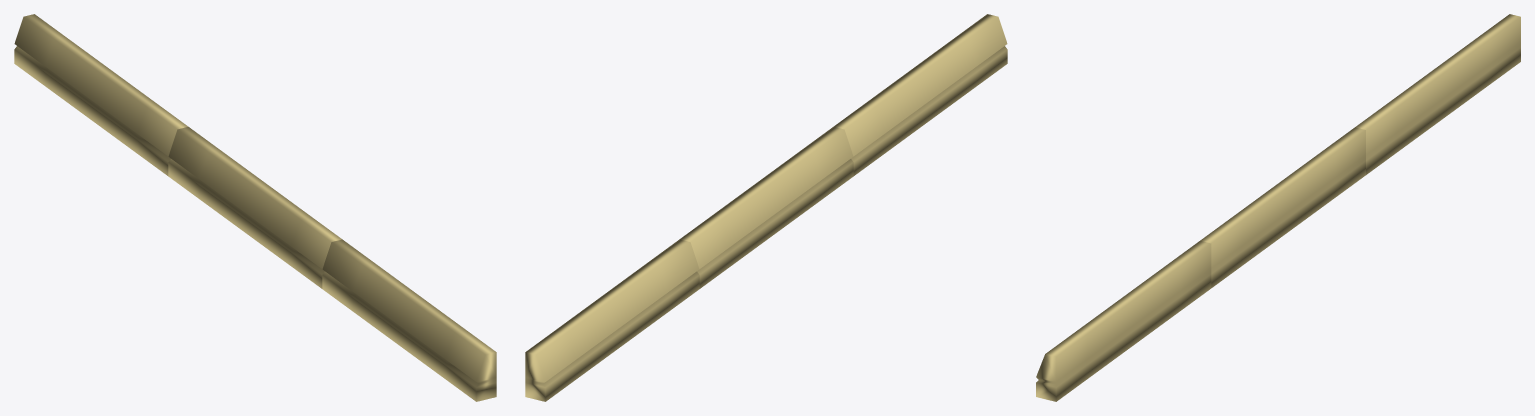
The model's file is Wall_Orn_03_x3.fbx.
3 views of the same model, side by side, from view 1: azimuth 30°, elevation 25°; view 2: azimuth 150°, elevation 25°; view 3: azimuth 330°, elevation 25° (orthographic).
Parts seen in each view (by area): view 1: Wall_Orn_03_x3; view 2: Wall_Orn_03_x3; view 3: Wall_Orn_03_x3.
Part boxes in pixels (x1,y1,x2,y2): Wall_Orn_03_x3: (14,14,496,401); Wall_Orn_03_x3: (525,14,1007,401); Wall_Orn_03_x3: (1036,14,1520,401).
Size of the model in its own units: 22.62 by 48.3 by 900.
